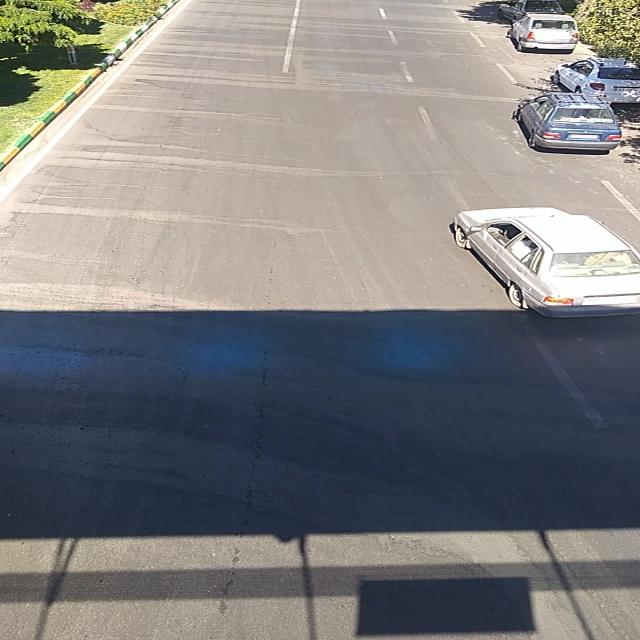car: (451, 207, 638, 317), (515, 92, 623, 152), (555, 56, 639, 102), (504, 14, 581, 52)
